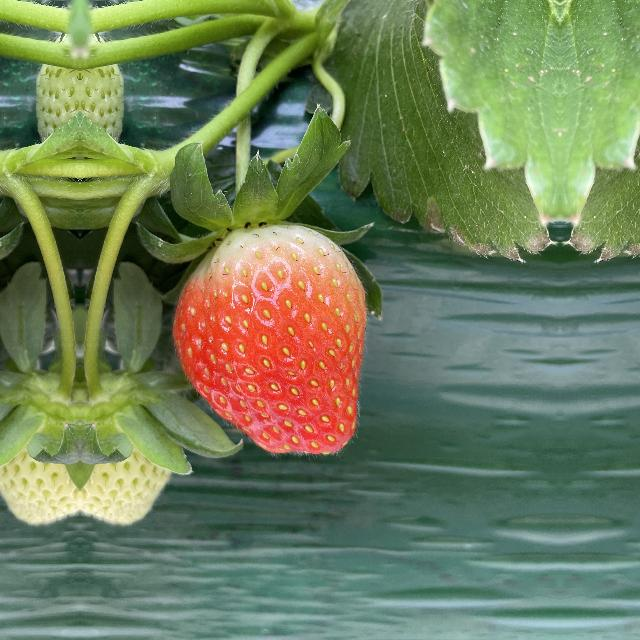Health_100: (168, 225, 372, 459)
